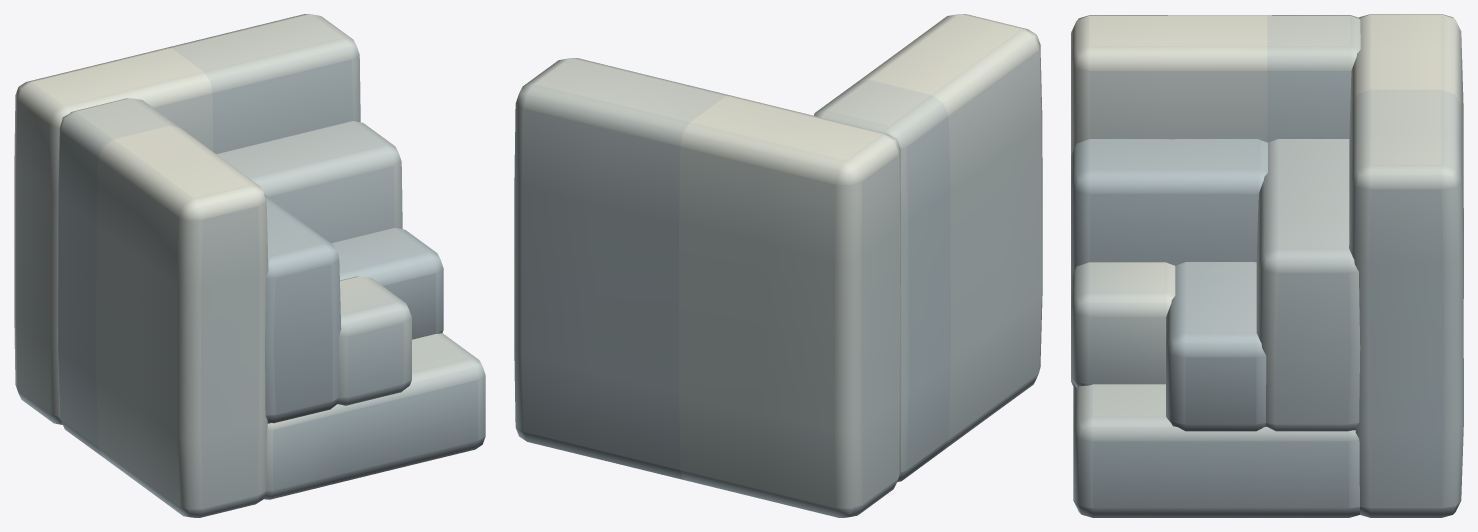
File: Quartz_4x4_Stair_Inner.fbx
3 views of the same model, side by side, from view 1: azimuth 30°, elevation 25°; view 2: azimuth 150°, elevation 25°; view 3: azimuth 270°, elevation 25° (orthographic). The views are drawn at different scales.
Visible parts, largest first — view 1: Quartz_4x4_Stair_Inner_LOD0; view 2: Quartz_4x4_Stair_Inner_LOD0; view 3: Quartz_4x4_Stair_Inner_LOD0.
Boxes of the visible parts, x1,y1,x2,y2 form: Quartz_4x4_Stair_Inner_LOD0: (14,14,485,517); Quartz_4x4_Stair_Inner_LOD0: (514,14,1042,517); Quartz_4x4_Stair_Inner_LOD0: (1071,14,1463,517).
Size of what is drawn, in the model's own units: 1.06 by 1.05 by 1.06.
